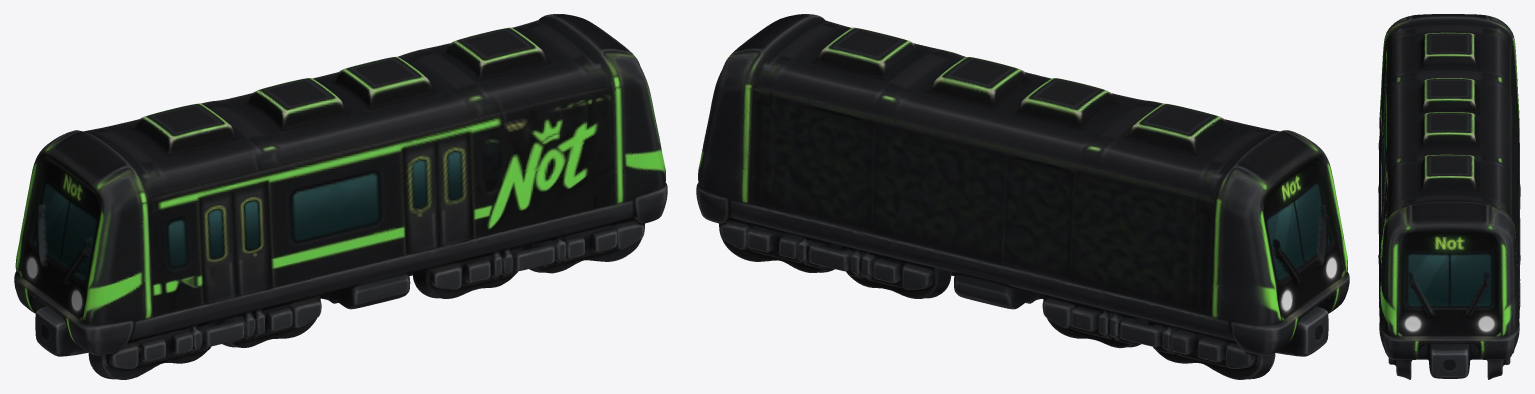
File: Meshy_AI_Not_Train_0905225724_texture.glb
The picture shows the model from 3 angles, left to right: view 1: azimuth 30°, elevation 25°; view 2: azimuth 150°, elevation 25°; view 3: azimuth 270°, elevation 25°; orthographic projection. The views are drawn at different scales.
Parts seen in each view (by area): view 1: mesh_node; view 2: mesh_node; view 3: mesh_node.
Part boxes in pixels (box(x1,y1,x2,y2)): mesh_node: box(14, 14, 667, 379); mesh_node: box(696, 14, 1349, 379); mesh_node: box(1378, 14, 1520, 379).
Size of the model in its own units: 1.9 by 0.6752 by 0.4914.
1 material, 1 textured.
